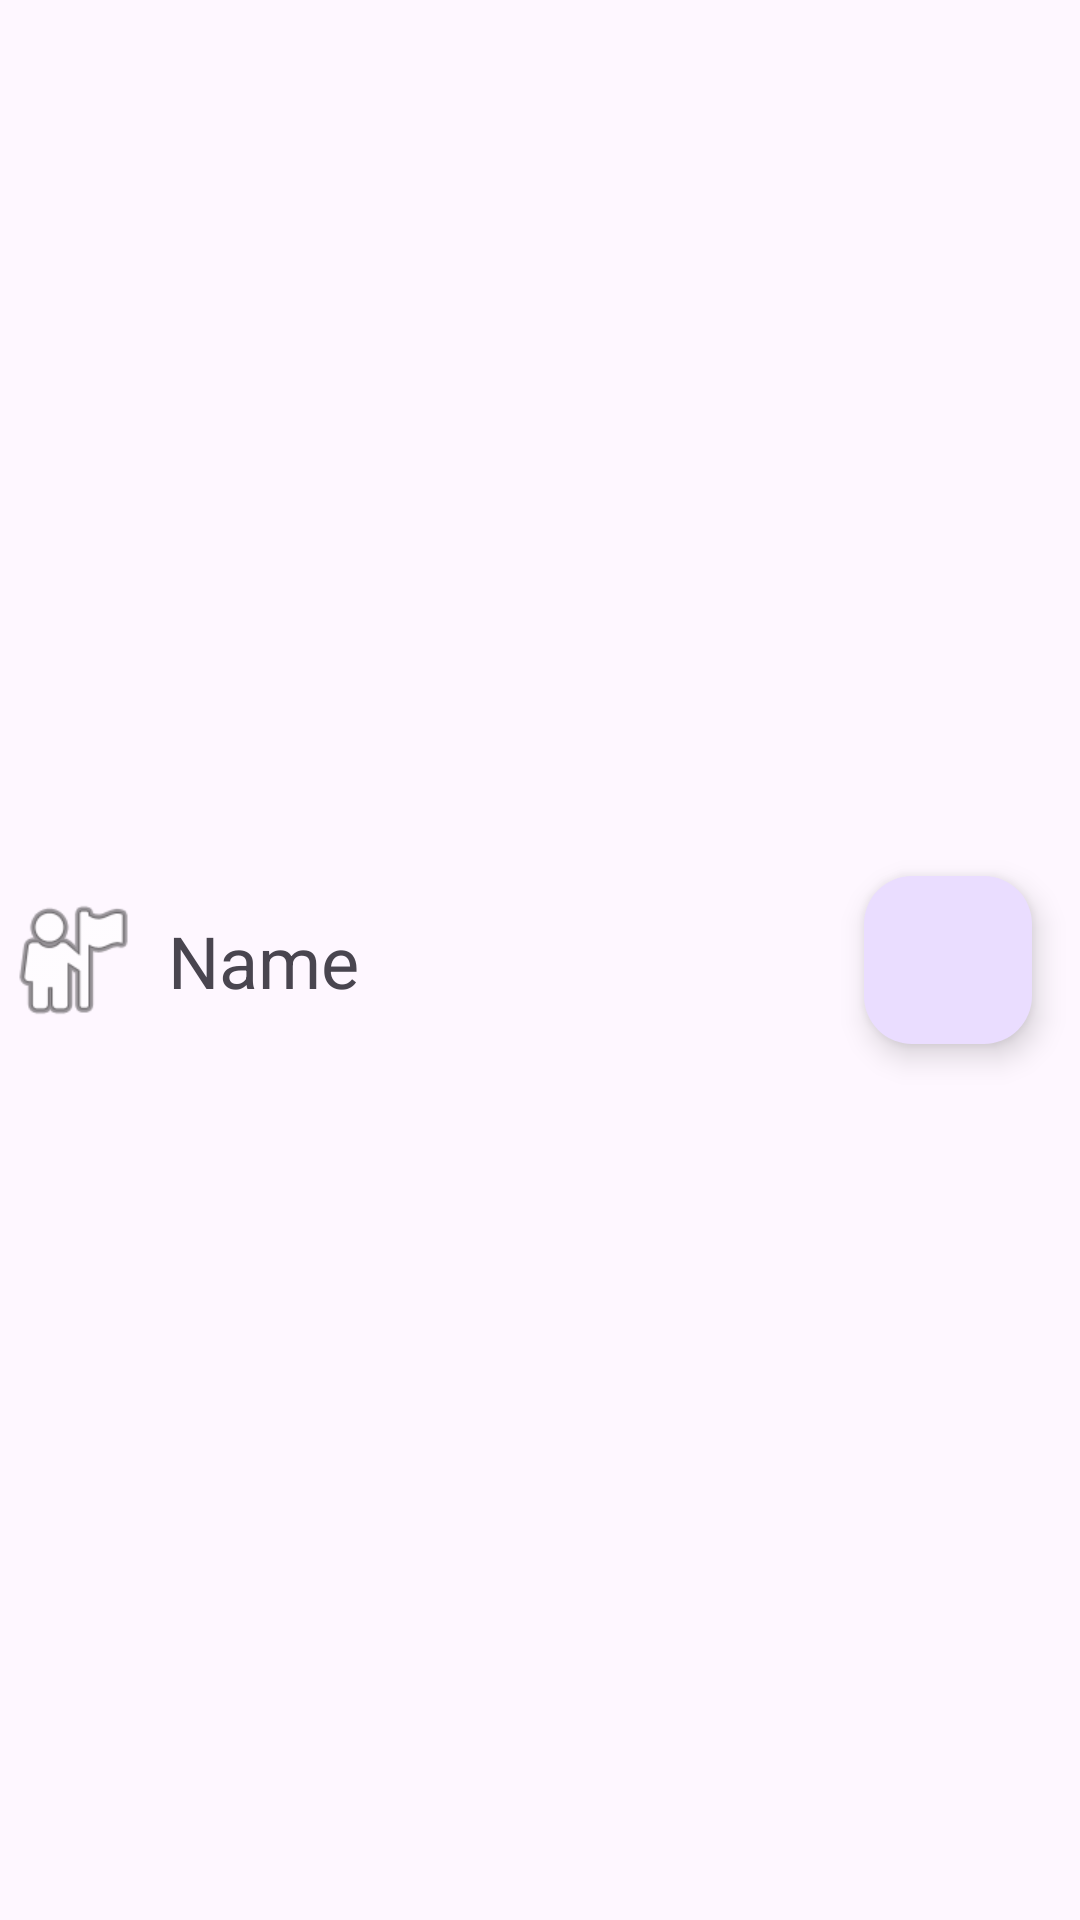

Icons on this 1080px x 1920px Android screen, each with its box as (x1, y1, x2, y2):
myplaces: (19, 906, 128, 1014)
